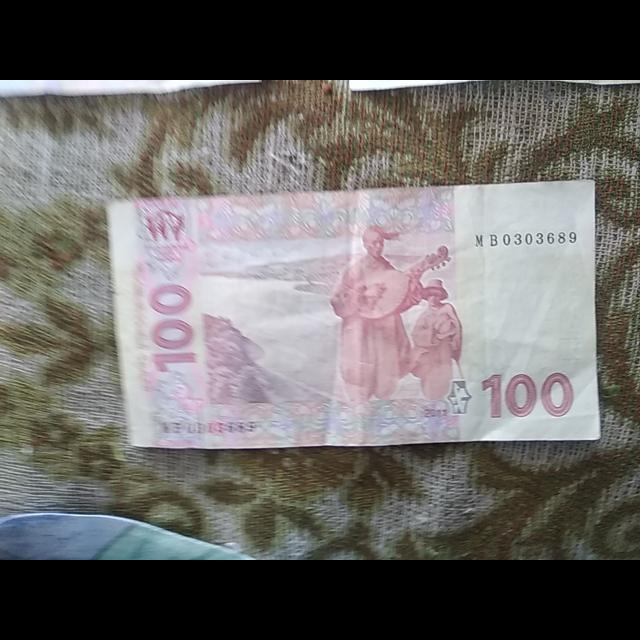100uah: (114, 178, 600, 446)
